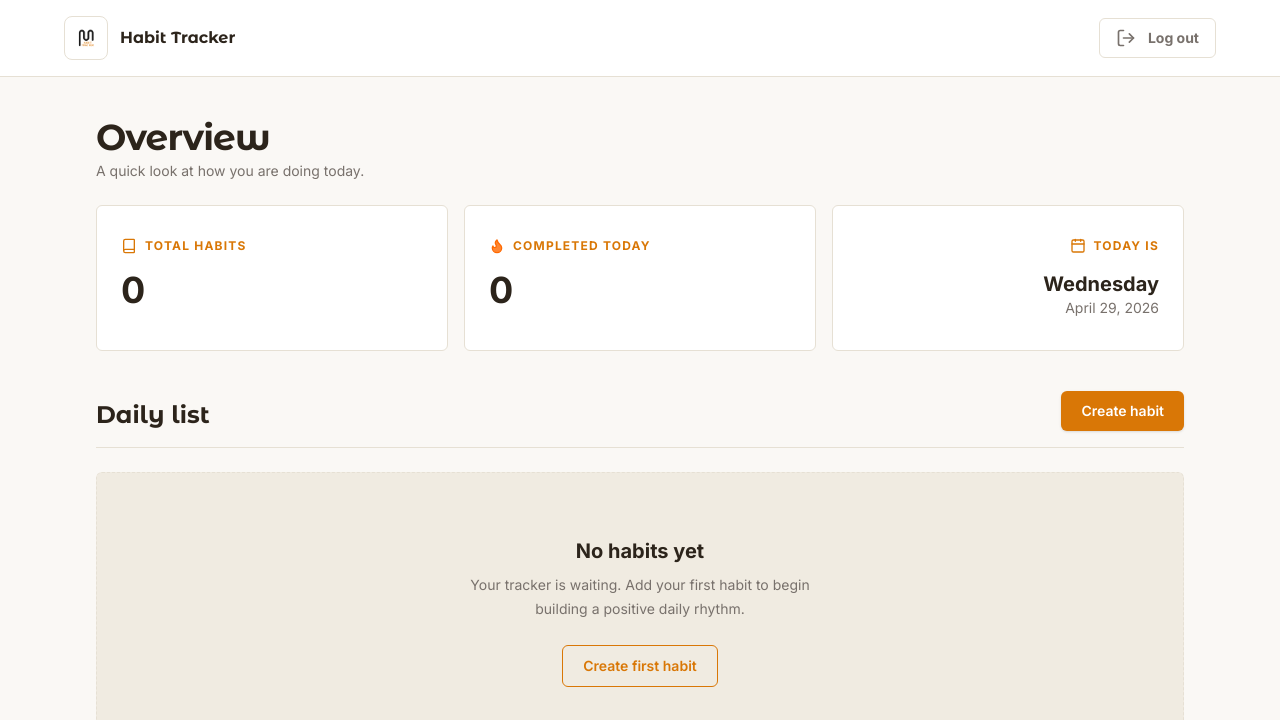
Scenario: habit form › shows a validation error when habit name is empty
The width and height of the screenshot is (1280, 720).
Click the button with test id "create-habit-button" at (1123, 411), box [1061,391,1184,431]
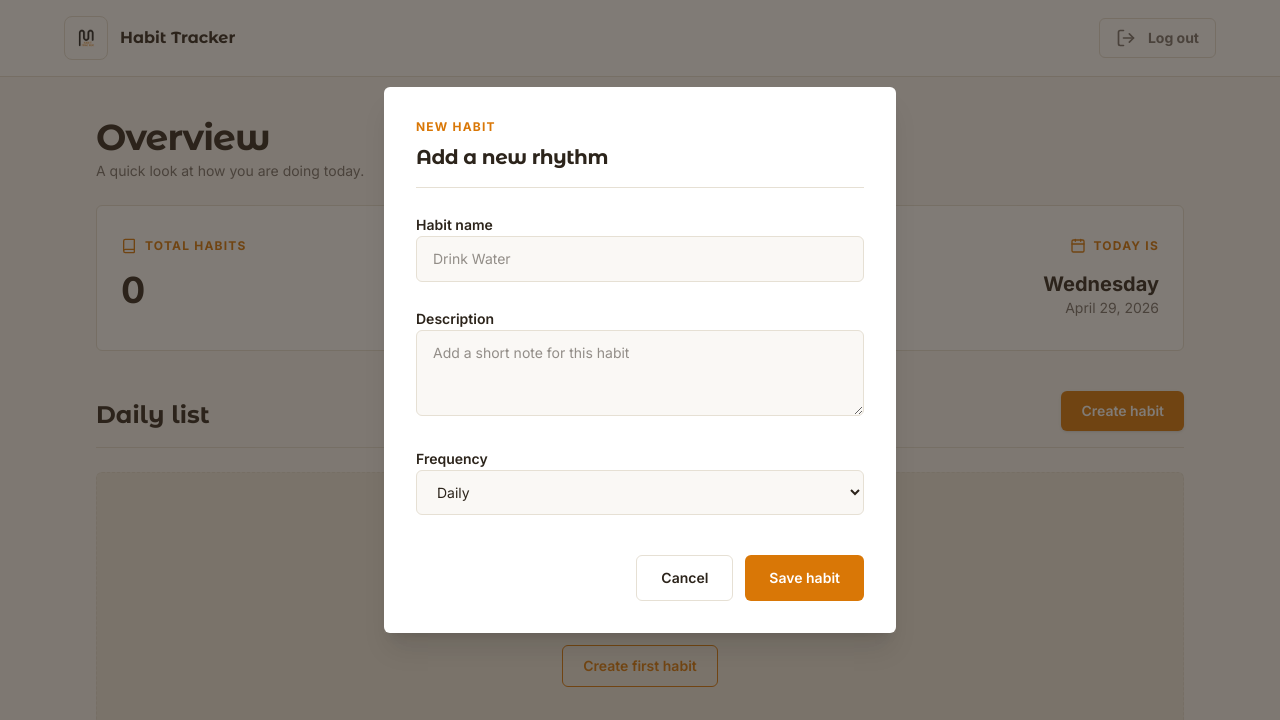
Click the button with test id "habit-save-button" at (805, 578), box [745,555,864,601]
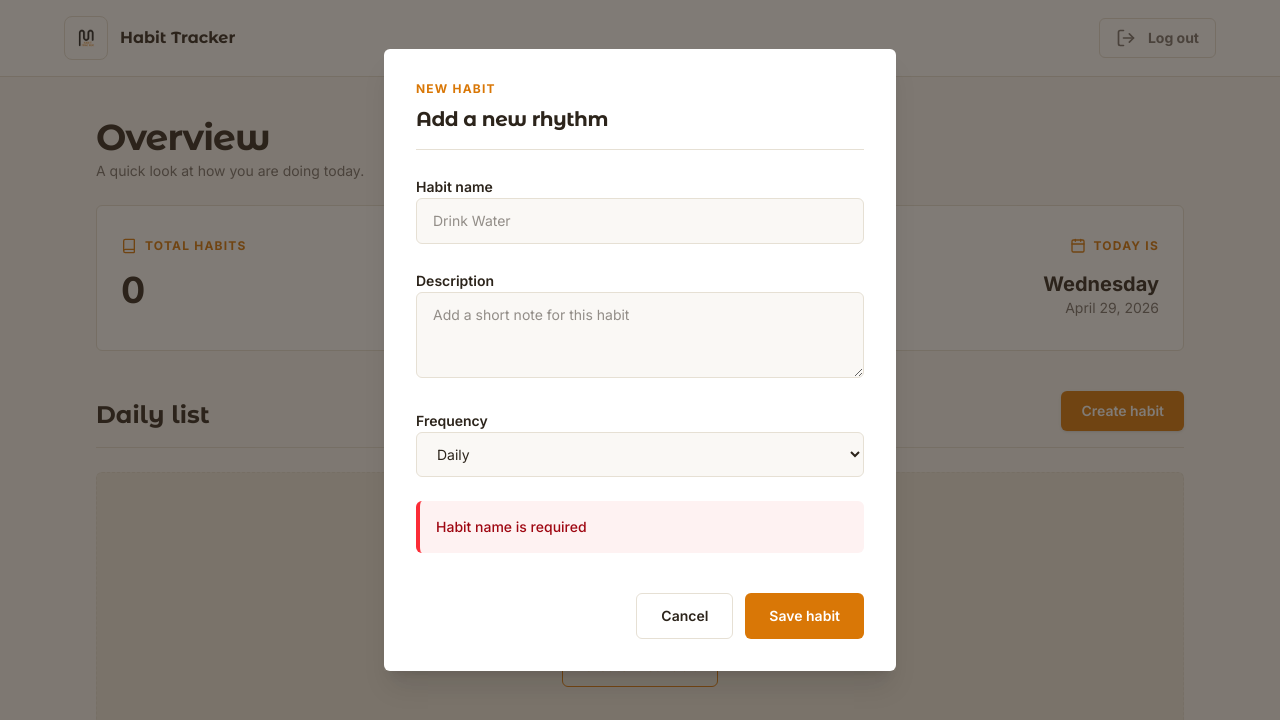
Result: the message reads "Habit name is required" at [436,518,587,535]
